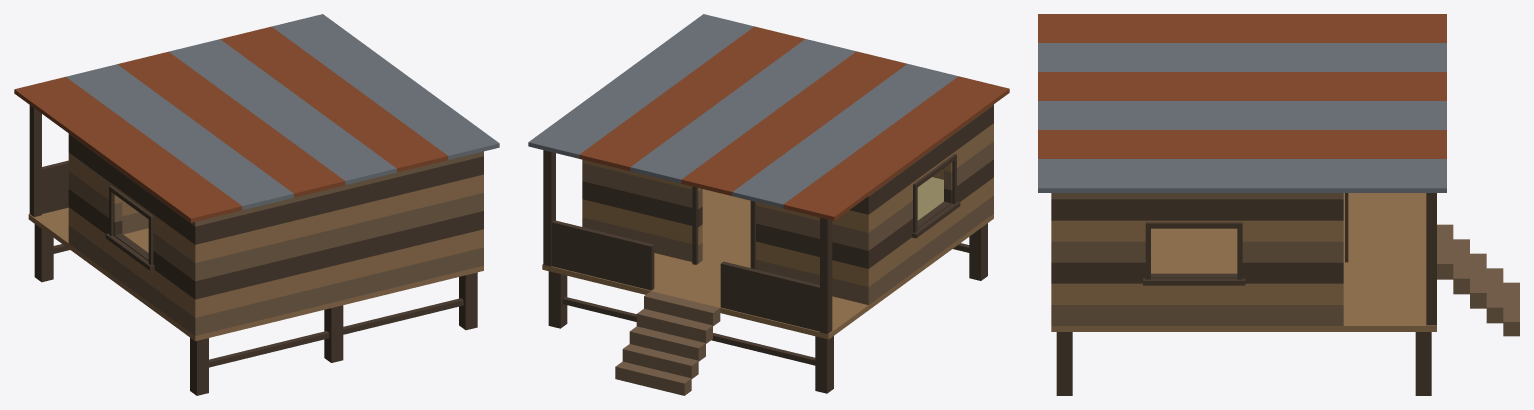
Rendered from stilt_shack.glb.
3 renders of one model, left to right at view 1: azimuth 30°, elevation 25°; view 2: azimuth 150°, elevation 25°; view 3: azimuth 270°, elevation 25°, orthographic. The views are drawn at different scales.
Visible parts, largest first — view 1: stilt_shack; view 2: stilt_shack; view 3: stilt_shack.
Part boxes in pixels (x1,y1,x2,y2): stilt_shack: (14, 14, 499, 395); stilt_shack: (528, 14, 1009, 395); stilt_shack: (1038, 14, 1519, 395).
Size of what is drawn, in the model's own units: 6.2 by 3.58 by 7.25.
Materials: 2 (2 with a texture image).
